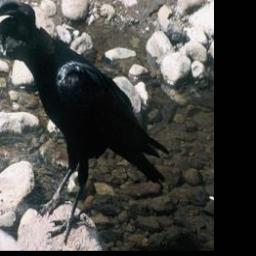Crow: (0, 0, 168, 244)
